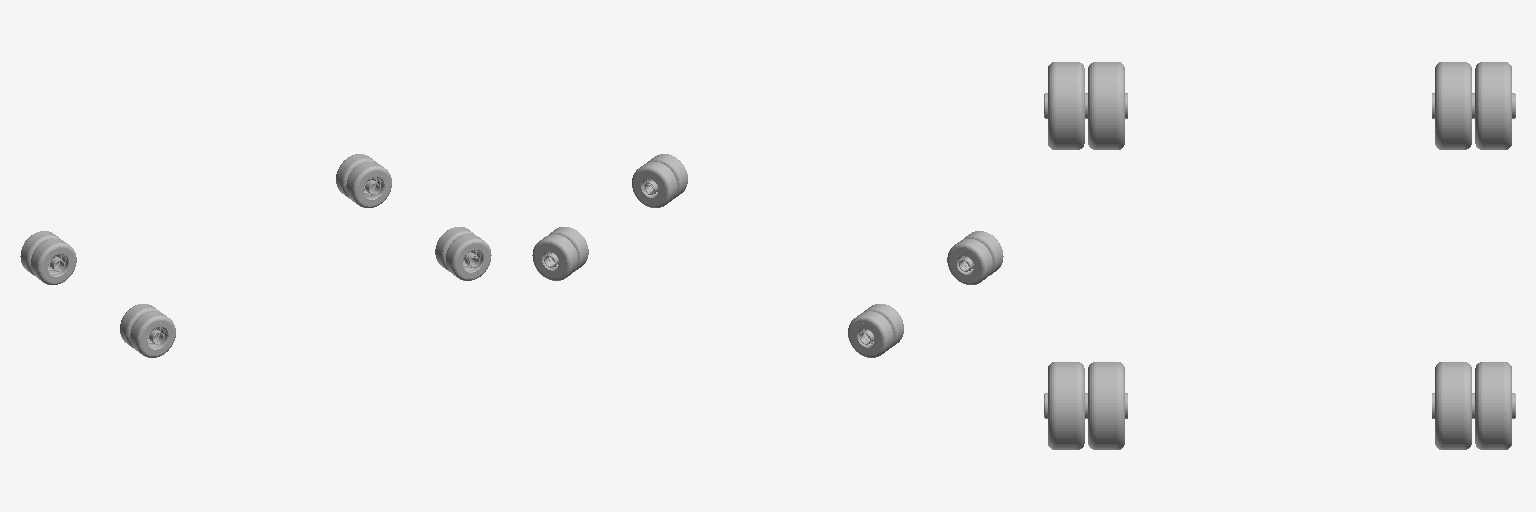
robot.urdf — leo_base_link:
<?xml version="1.0"?>
<!-- 
	leo_base.urdf.xacro  
    Copyright (c) 2022, NXROBO Ltd.
	Author: litian.zhuang 
    litian.zhuang <[email redacted]>  
    All rights reserved.
    http://www.nxrobo.com
-->
<robot name="leo_base_link">

  <link
    name="base_link">
    <inertial>
      <origin
        xyz="0.0299398920234792 0.0187235218400686 0.249808178961423"
        rpy="0 0 0" />
      <mass
        value="23.0764320311823" />
      <inertia
        ixx="0.38631656418186"
        ixy="-0.000514252660756516"
        ixz="-0.00976928283614558"
        iyy="0.57663248679916"
        iyz="0.000777942625813988"
        izz="0.91902287772661" />
    </inertial>
    <visual>
      <origin
        xyz="0 0 0"
        rpy="0 0 0" />
      <geometry>
        <mesh
          filename="package://leo_description/meshes/leo/base/test/base_link.STL" />
      </geometry>
      <material
        name="">
        <color
          rgba="0.752941176470588 0.752941176470588 0.752941176470588 1" />
      </material>
    </visual>
    <collision>
      <origin
        xyz="0 0 0"
        rpy="0 0 0" />
      <geometry>
        <mesh
          filename="package://leo_description/meshes/leo/base/test/base_link.STL" />
      </geometry>
    </collision>
  </link>
  <link
    name="wheel-l">
    <inertial>
      <origin
        xyz="6.2874E-09 -0.033158 4.9715E-06"
        rpy="0 0 0" />
      <mass
        value="0.61512" />
      <inertia
        ixx="0.0015259"
        ixy="-3.0637E-11"
        ixz="4.5439E-10"
        iyy="0.0028616"
        iyz="-6.3033E-08"
        izz="0.001526" />
    </inertial>
    <visual>
      <origin
        xyz="0 0 0"
        rpy="0 0 0" />
      <geometry>
        <mesh
          filename="package://leo_description/meshes/leo/base/test/wheel-l.STL" />
      </geometry>
      <material
        name="">
        <color
          rgba="0.75294 0.75294 0.75294 1" />
      </material>
    </visual>
    <collision>
      <origin
        xyz="0 0 0"
        rpy="0 0 0" />
      <geometry>
        <mesh
          filename="package://leo_description/meshes/leo/base/test/wheel-l.STL" />
      </geometry>
    </collision>
  </link>
  <joint
    name="joint_wheel_l"
    type="continuous">
    <origin
      xyz="-0.03227 0.22693 0.049567"
      rpy="0 0 0" />
    <parent
      link="base_link" />
    <child
      link="wheel-l" />
    <axis
      xyz="0 1 0" />
  </joint>
  <link
    name="wheel_r">
    <inertial>
      <origin
        xyz="-1.3014E-08 0.033158 -4.9717E-06"
        rpy="0 0 0" />
      <mass
        value="0.61512" />
      <inertia
        ixx="0.0015259"
        ixy="-2.1409E-10"
        ixz="4.5162E-11"
        iyy="0.0028616"
        iyz="-6.3035E-08"
        izz="0.001526" />
    </inertial>
    <visual>
      <origin
        xyz="0 0 0"
        rpy="0 0 0" />
      <geometry>
        <mesh
          filename="package://leo_description/meshes/leo/base/test/wheel_r.STL" />
      </geometry>
      <material
        name="">
        <color
          rgba="0.75294 0.75294 0.75294 1" />
      </material>
    </visual>
    <collision>
      <origin
        xyz="0 0 0"
        rpy="0 0 0" />
      <geometry>
        <mesh
          filename="package://leo_description/meshes/leo/base/test/wheel_r.STL" />
      </geometry>
    </collision>
  </link>
  <joint
    name="joint_wheel_r"
    type="continuous">
    <origin
      xyz="-0.03227 -0.22693 0.049567"
      rpy="0 0 0" />
    <parent
      link="base_link" />
    <child
      link="wheel_r" />
    <axis
      xyz="0 1 0" />
  </joint>
  <link
    name="wheel_l_f">
    <inertial>
      <origin
        xyz="1.9696E-10 -0.023749 -5.3967E-06"
        rpy="0 0 0" />
      <mass
        value="0.082103" />
      <inertia
        ixx="2.1654E-05"
        ixy="9.8137E-15"
        ixz="1.3367E-13"
        iyy="3.6595E-05"
        iyz="1.4996E-12"
        izz="2.1657E-05" />
    </inertial>
    <visual>
      <origin
        xyz="0 0 0"
        rpy="0 0 0" />
      <geometry>
        <mesh
          filename="package://leo_description/meshes/leo/base/test/wheel_l_f.STL" />
      </geometry>
      <material
        name="">
        <color
          rgba="0.75294 0.75294 0.75294 1" />
      </material>
    </visual>
    <collision>
      <origin
        xyz="0 0 0"
        rpy="0 0 0" />
      <geometry>
        <mesh
          filename="package://leo_description/meshes/leo/base/test/wheel_l_f.STL" />
      </geometry>
    </collision>
  </link>
  <joint
    name="joint_wheel_l_f"
    type="continuous">
    <origin
      xyz="0.16573 0.144 -0.0079"
      rpy="0 0 0" />
    <parent
      link="base_link" />
    <child
      link="wheel_l_f" />
    <axis
      xyz="0 1 0" />
  </joint>
  <link
    name="wheel_r_f">
    <inertial>
      <origin
        xyz="0 0.024296 3.4694E-18"
        rpy="0 0 0" />
      <mass
        value="0.08341" />
      <inertia
        ixx="2.2004E-05"
        ixy="-8.1582E-22"
        ixz="-3.998E-23"
        iyy="3.6602E-05"
        iyz="2.7502E-22"
        izz="2.2004E-05" />
    </inertial>
    <visual>
      <origin
        xyz="0 0 0"
        rpy="0 0 0" />
      <geometry>
        <mesh
          filename="package://leo_description/meshes/leo/base/test/wheel_r_f.STL" />
      </geometry>
      <material
        name="">
        <color
          rgba="0.75294 0.75294 0.75294 1" />
      </material>
    </visual>
    <collision>
      <origin
        xyz="0 0 0"
        rpy="0 0 0" />
      <geometry>
        <mesh
          filename="package://leo_description/meshes/leo/base/test/wheel_r_f.STL" />
      </geometry>
    </collision>
  </link>
  <joint
    name="joint_wheel_r_f"
    type="continuous">
    <origin
      xyz="0.16573 -0.144 -0.0079"
      rpy="0 0 0" />
    <parent
      link="base_link" />
    <child
      link="wheel_r_f" />
    <axis
      xyz="0 1 0" />
  </joint>
  <link
    name="wheel_l_r">
    <inertial>
      <origin
        xyz="-2.2204E-16 0.024301 -1.0408E-17"
        rpy="0 0 0" />
      <mass
        value="0.081868" />
      <inertia
        ixx="2.1635E-05"
        ixy="-9.2077E-22"
        ixz="-3.998E-23"
        iyy="3.6554E-05"
        iyz="1.5746E-22"
        izz="2.1635E-05" />
    </inertial>
    <visual>
      <origin
        xyz="0 0 0"
        rpy="0 0 0" />
      <geometry>
        <mesh
          filename="package://leo_description/meshes/leo/base/test/wheel_l_r.STL" />
      </geometry>
      <material
        name="">
        <color
          rgba="0.75294 0.75294 0.75294 1" />
      </material>
    </visual>
    <collision>
      <origin
        xyz="0 0 0"
        rpy="0 0 0" />
      <geometry>
        <mesh
          filename="package://leo_description/meshes/leo/base/test/wheel_l_r.STL" />
      </geometry>
    </collision>
  </link>
  <joint
    name="joint_wheel_l_r"
    type="continuous">
    <origin
      xyz="-0.27427 -0.144 -0.0079"
      rpy="0 0 0" />
    <parent
      link="base_link" />
    <child
      link="wheel_l_r" />
    <axis
      xyz="0 -1 0" />
  </joint>
  <link
    name="wheel_r_r">
    <inertial>
      <origin
        xyz="2.22044604925031E-16 -0.0236988434357127 0"
        rpy="0 0 0" />
      <mass
        value="0.0818683130278536" />
      <inertia
        ixx="2.16347627126981E-05"
        ixy="-1.07633401471318E-21"
        ixz="-3.99803962733964E-23"
        iyy="3.6553749336634E-05"
        iyz="2.74630297471843E-22"
        izz="2.16347627126981E-05" />
    </inertial>
    <visual>
      <origin
        xyz="0 0 0"
        rpy="0 0 0" />
      <geometry>
        <mesh
          filename="package://leo_description/meshes/leo/base/test/wheel_r_r.STL" />
      </geometry>
      <material
        name="">
        <color
          rgba="0.752941176470588 0.752941176470588 0.752941176470588 1" />
      </material>
    </visual>
    <collision>
      <origin
        xyz="0 0 0"
        rpy="0 0 0" />
      <geometry>
        <mesh
          filename="package://leo_description/meshes/leo/base/test/wheel_r_r.STL" />
      </geometry>
    </collision>
  </link>
  <joint
    name="joint_wheel_r_r"
    type="continuous">
    <origin
      xyz="-0.27427 0.144 -0.0079"
      rpy="0 0 0" />
    <parent
      link="base_link" />
    <child
      link="wheel_r_r" />
    <axis
      xyz="0 -1 0" />
  </joint>			

</robot>

--- Facts derived from the render (not from the file) ---
3 views of the same robot in one strip: view 1: azimuth 30°, elevation 25°; view 2: azimuth 150°, elevation 25°; view 3: azimuth 270°, elevation 25° (orthographic).
Robot: leo_base_link — 7 links, 6 joints (6 continuous); root link base_link; default pose: all joints at 0.
Links seen in each view (by area): view 1: wheel_l_f, wheel_l_r, wheel_r_r, wheel_r_f; view 2: wheel_r_f, wheel_r_r, wheel_l_f, wheel_l_r; view 3: wheel_l_f, wheel_r_f, wheel_l_r, wheel_r_r.
Boxes of the visible links, box(x1,y1,x2,y2) form: wheel_l_f: box(336, 154, 391, 207); wheel_l_r: box(120, 304, 175, 357); wheel_r_r: box(20, 231, 76, 284); wheel_r_f: box(435, 227, 491, 280); wheel_r_f: box(632, 154, 687, 207); wheel_r_r: box(848, 304, 903, 357); wheel_l_f: box(532, 227, 588, 280); wheel_l_r: box(947, 231, 1003, 284); wheel_l_f: box(1432, 362, 1515, 449); wheel_r_f: box(1044, 362, 1127, 449); wheel_l_r: box(1044, 62, 1127, 149); wheel_r_r: box(1432, 62, 1515, 149).
Size in the robot's own frame: 0.495 by 0.292 by 0.055 metres.
Meshes: 7 distinct files referenced, 4 mesh visuals loaded (4 binary STL); not drawn: 3 (reference not matched to a file when rendering).
